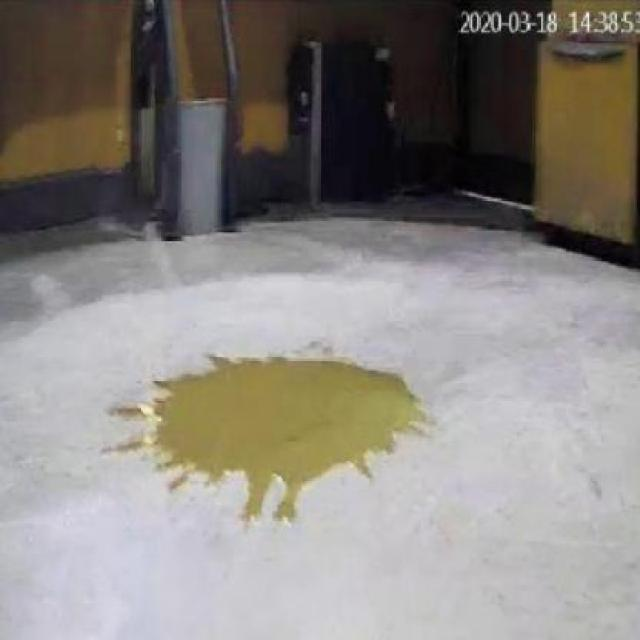spillage: (118, 359, 435, 524)
